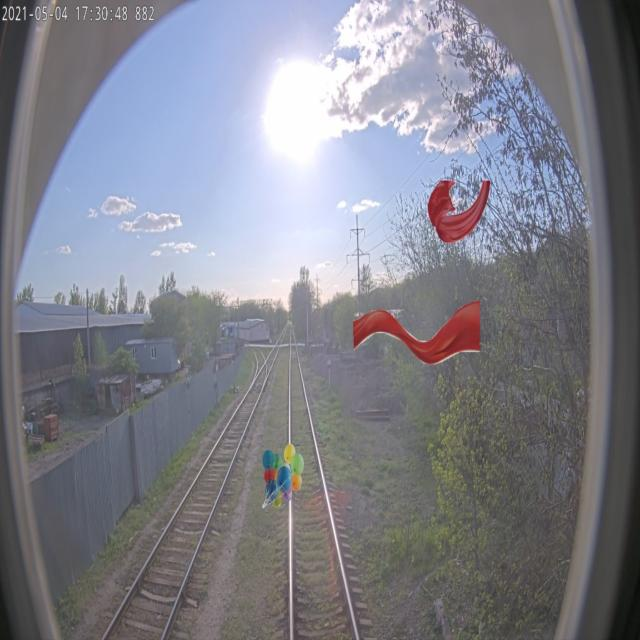balloon: (262, 444, 304, 508)
floating object: (353, 300, 480, 364), (428, 179, 491, 243)
